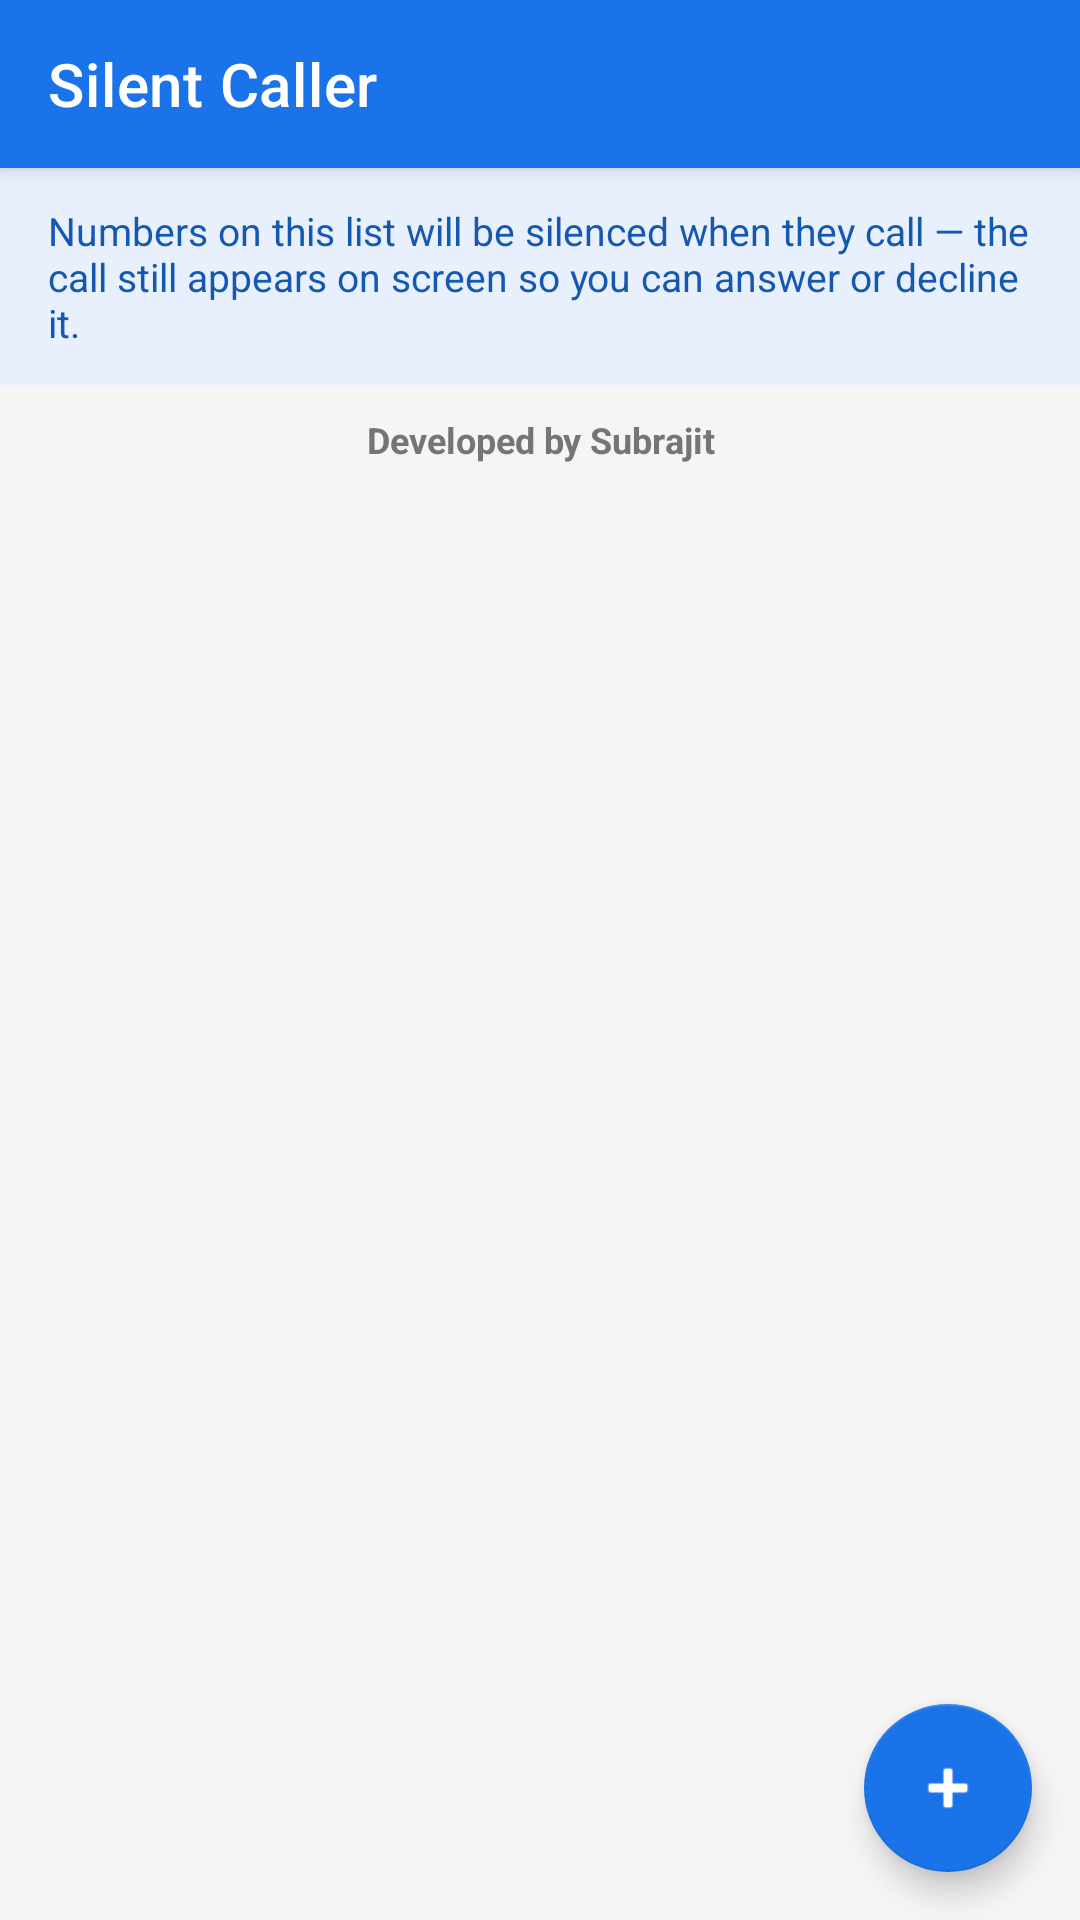

Where icons sit on this 1080*1920 app screen, as {"left": x1, "top": y1, "right": x2, "bottom": y2}:
Add Number: {"left": 864, "top": 1704, "right": 1032, "bottom": 1872}
